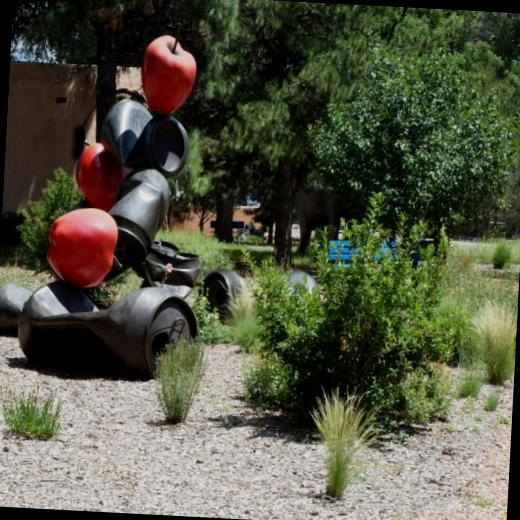Apple: (44, 206, 126, 289), (139, 32, 198, 112), (72, 138, 130, 210)
